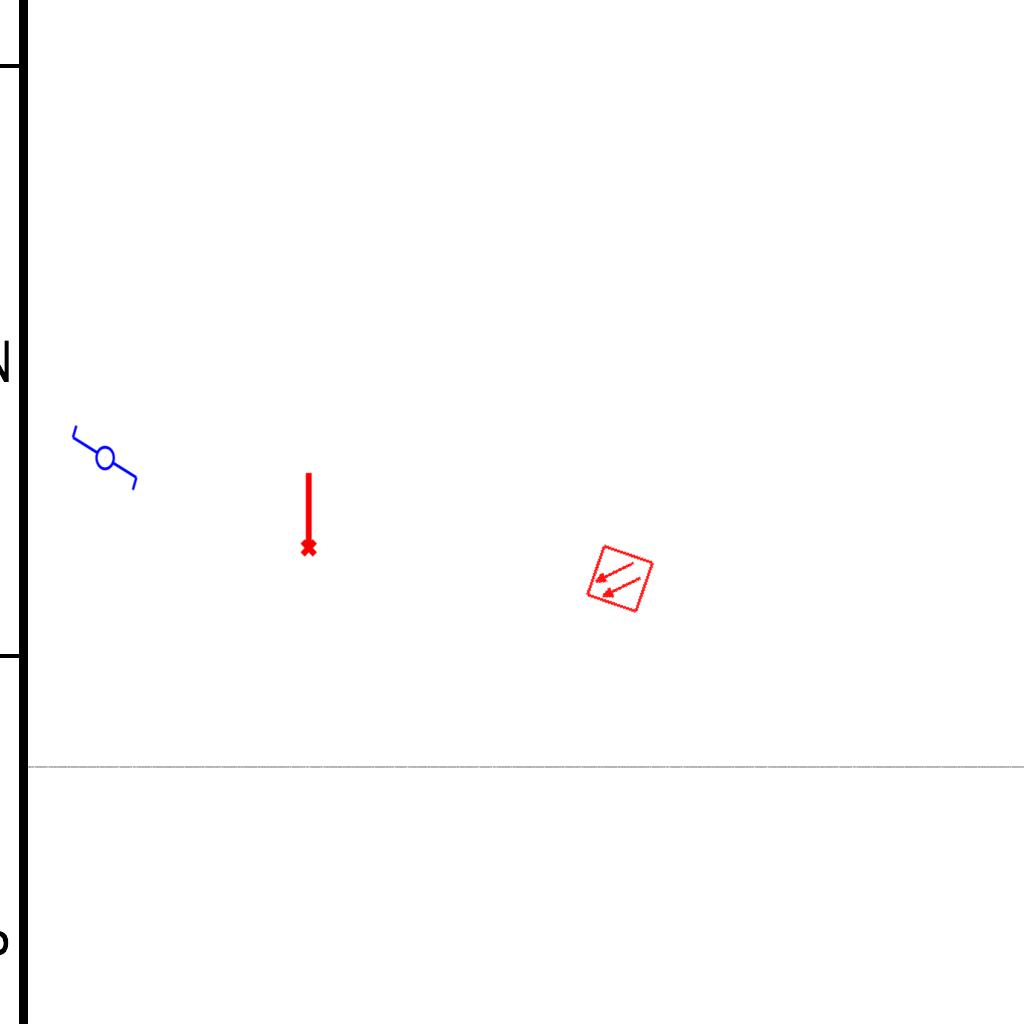ASR_Ansaugoeffnung: (296, 470, 319, 558)
RMO_Rauchmelder_optischer: (584, 543, 656, 615)
Wechselschalter: (68, 423, 140, 501)
